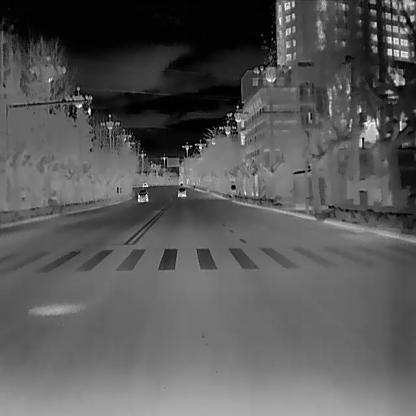car: (136, 189, 149, 203), (177, 186, 186, 196)
